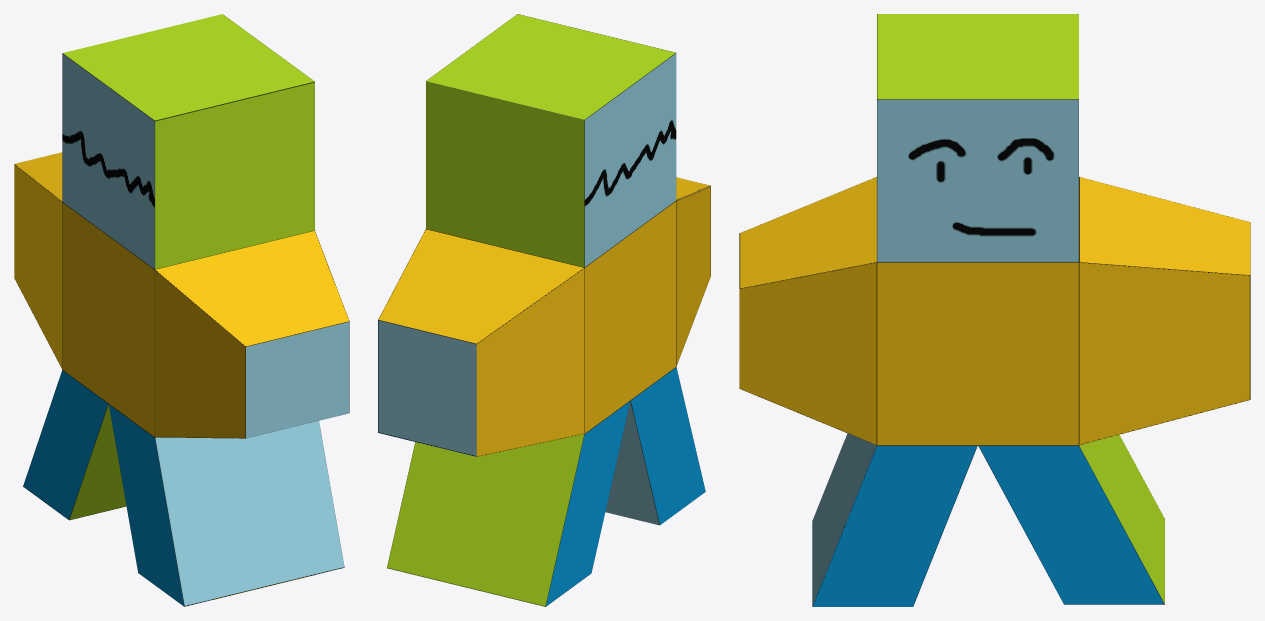
The model's file is BasicModelUVMapping.obj.
The picture shows the model from 3 angles, left to right: view 1: azimuth 30°, elevation 25°; view 2: azimuth 150°, elevation 25°; view 3: azimuth 270°, elevation 25°; orthographic projection. The views are drawn at different scales.
Visible parts, largest first — view 1: Cube; view 2: Cube; view 3: Cube.
Part boxes in pixels (x1,y1,x2,y2): Cube: (14,14,349,606); Cube: (378,14,710,606); Cube: (739,14,1250,606).
Bounding box in the file's own units: 2 × 5.54 × 5.06.
